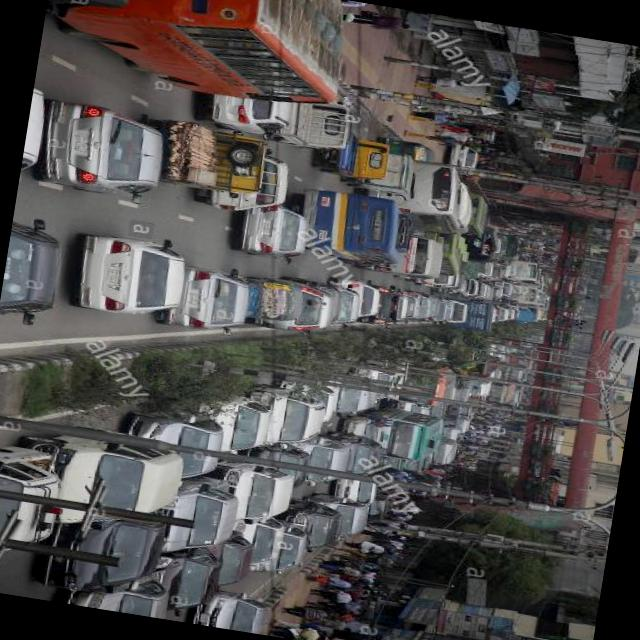bus: (51, 0, 358, 114), (301, 185, 414, 267), (370, 154, 480, 238), (368, 404, 448, 466), (393, 356, 459, 410), (438, 231, 470, 276), (477, 376, 522, 407), (468, 192, 492, 236), (508, 257, 543, 286), (495, 232, 525, 262), (512, 280, 541, 307)
car: (39, 496, 174, 604), (40, 96, 174, 204), (78, 231, 191, 324), (125, 403, 228, 484), (1, 217, 74, 325), (168, 261, 257, 338), (66, 562, 174, 618), (152, 540, 226, 617), (218, 461, 298, 528), (200, 88, 296, 139), (242, 200, 314, 262), (214, 392, 276, 456), (196, 586, 274, 635), (254, 518, 312, 578), (248, 438, 314, 490), (232, 510, 288, 571), (205, 527, 257, 590), (288, 276, 347, 326), (292, 499, 346, 553), (328, 432, 384, 472), (362, 282, 409, 328), (336, 277, 384, 319), (334, 476, 384, 506), (354, 368, 394, 401), (308, 384, 340, 424), (342, 416, 387, 444), (336, 285, 363, 327), (451, 142, 482, 168), (404, 290, 425, 324)
motorcycle: (244, 274, 306, 324), (384, 136, 440, 162)
truck: (43, 427, 188, 540), (156, 118, 272, 198), (0, 438, 64, 570), (160, 471, 244, 564), (203, 145, 295, 219), (252, 382, 331, 452), (258, 276, 339, 337), (278, 94, 355, 152), (369, 227, 449, 280), (327, 128, 395, 182), (307, 491, 371, 538), (358, 148, 418, 196), (298, 434, 352, 486), (450, 295, 496, 333), (330, 384, 376, 418), (489, 261, 505, 280)
